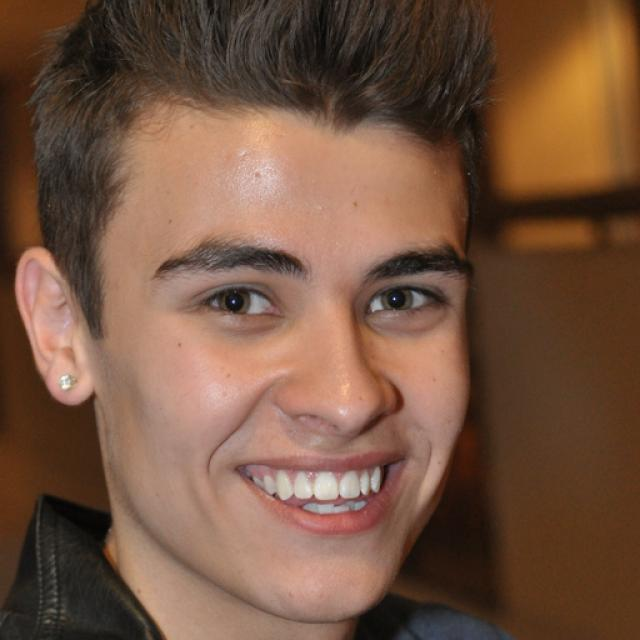Acne: (314, 201, 327, 213)
